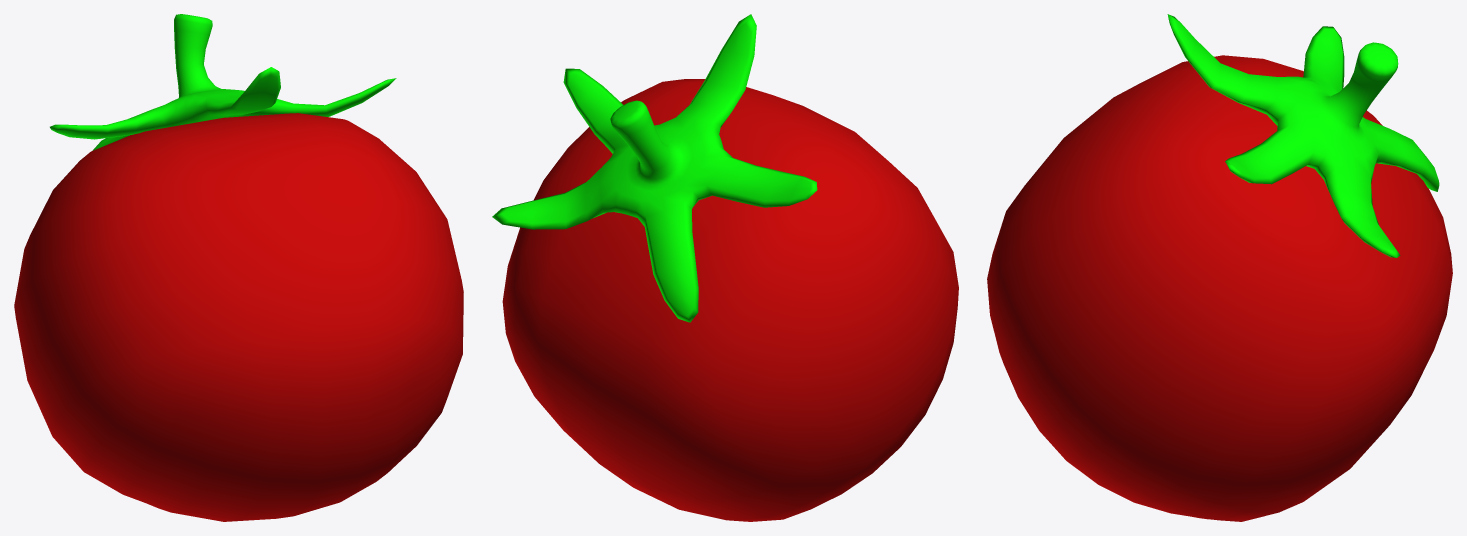
Rendered from tomato.glb.
3 views of the same model, side by side, from view 1: azimuth 30°, elevation 25°; view 2: azimuth 150°, elevation 25°; view 3: azimuth 270°, elevation 25° (orthographic). The views are drawn at different scales.
Parts seen in each view (by area): view 1: tomato, Cylinder; view 2: tomato, Cylinder; view 3: tomato, Cylinder.
Boxes of the visible parts, box(x1,y1,x2,y2) form: tomato: box(14, 113, 463, 521); Cylinder: box(50, 14, 396, 150); tomato: box(502, 79, 958, 521); Cylinder: box(492, 14, 817, 322); tomato: box(987, 55, 1452, 521); Cylinder: box(1167, 14, 1439, 257).
Size of the model in its own units: 0.6599 by 0.7407 by 0.6463.
